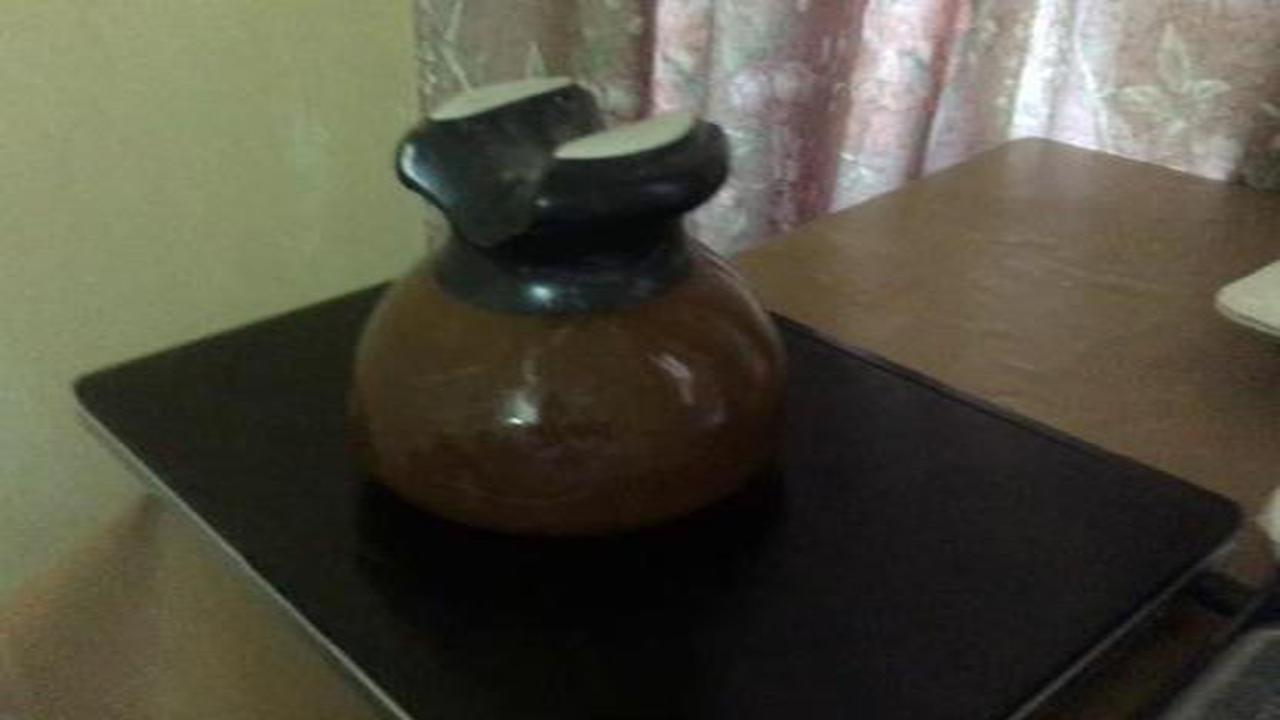insulator_pin: (328, 59, 813, 551)
